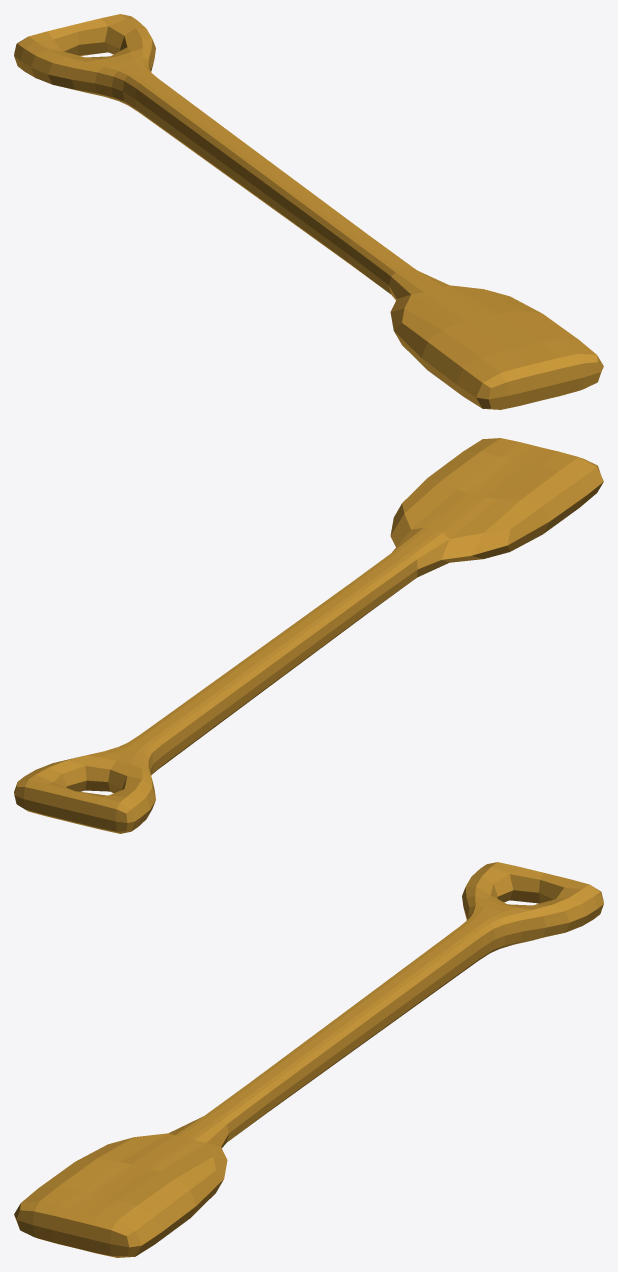
File: PADDLE.fbx
3 renders of one model, top to bottom at view 1: azimuth 30°, elevation 25°; view 2: azimuth 150°, elevation 25°; view 3: azimuth 330°, elevation 25°, orthographic.
Visible parts, largest first — view 1: Cube; view 2: Cube; view 3: Cube.
Part boxes in pixels (<box>): Cube: <box>14,14,603,409</box>; Cube: <box>14,438,603,833</box>; Cube: <box>14,862,603,1257</box>.
Size of the model in its own units: 216 by 61.75 by 1369.
